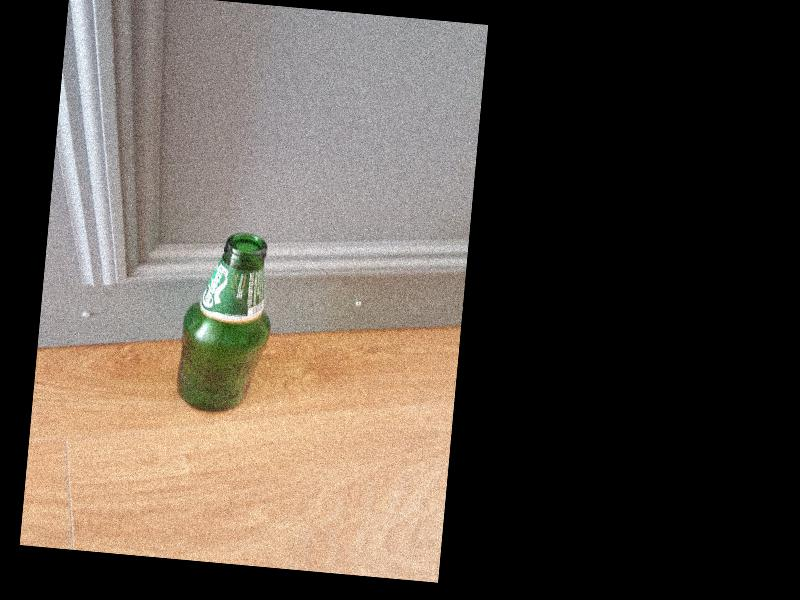Beer: (173, 228, 279, 417)
